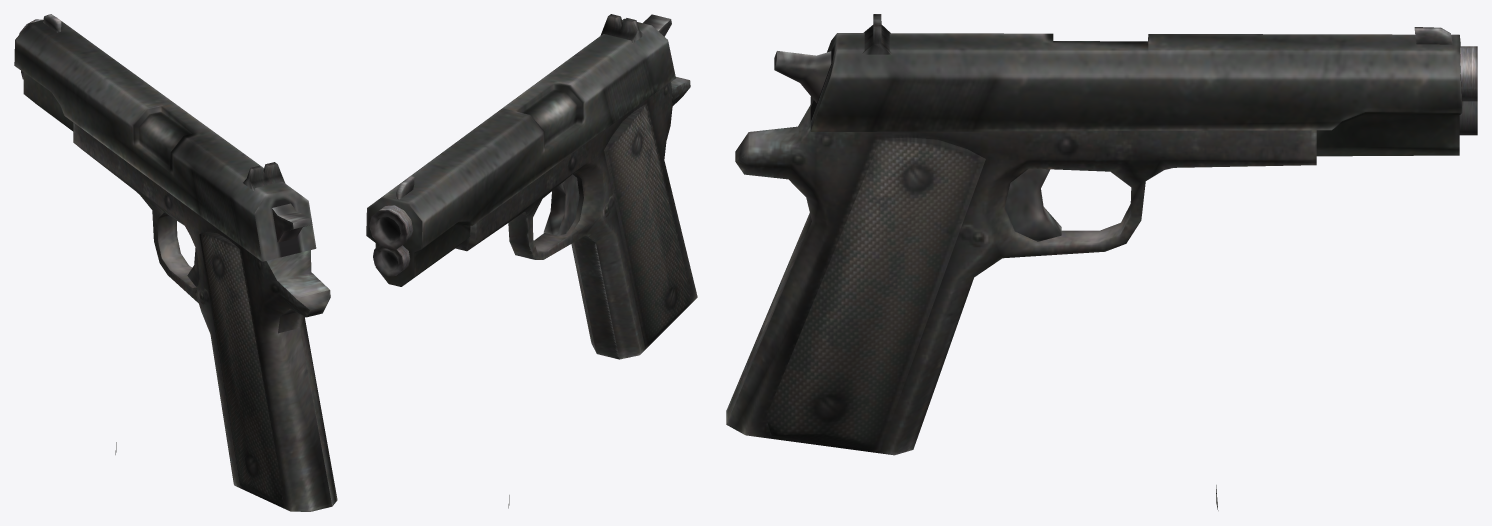
Rendered from pistol2.dae.
3 views of the same model, side by side, from view 1: azimuth 30°, elevation 25°; view 2: azimuth 150°, elevation 25°; view 3: azimuth 270°, elevation 25° (orthographic). The views are drawn at different scales.
Visible parts, largest first — view 1: mesh5, mesh14; view 2: mesh5, mesh14; view 3: mesh5, mesh14.
Part boxes in pixels (x1,y1,x2,y2): mesh5: (73, 122, 337, 511); mesh14: (14, 14, 316, 261); mesh5: (455, 77, 697, 359); mesh14: (366, 14, 675, 286); mesh5: (726, 105, 1316, 455); mesh14: (774, 14, 1477, 156).
Bounding box in the file's own units: 0.9446 × 7.53 × 5.55.
